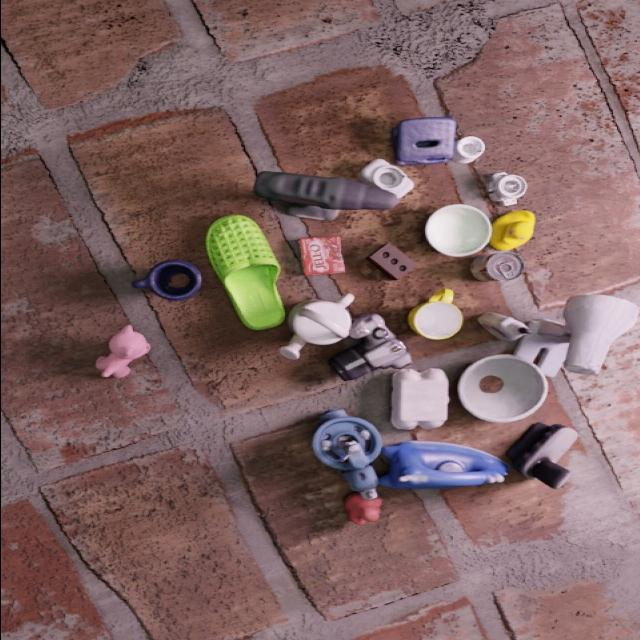Other Objects: (311, 409, 381, 498), (457, 354, 547, 422), (379, 441, 507, 488), (279, 293, 353, 358), (507, 423, 576, 488), (424, 204, 491, 256), (391, 368, 448, 428), (132, 259, 201, 300), (95, 325, 149, 376), (359, 159, 413, 199), (408, 301, 463, 339), (489, 210, 535, 250), (299, 236, 344, 275), (368, 243, 415, 279), (471, 251, 523, 281), (477, 312, 529, 340), (485, 172, 527, 205), (344, 493, 381, 524)
